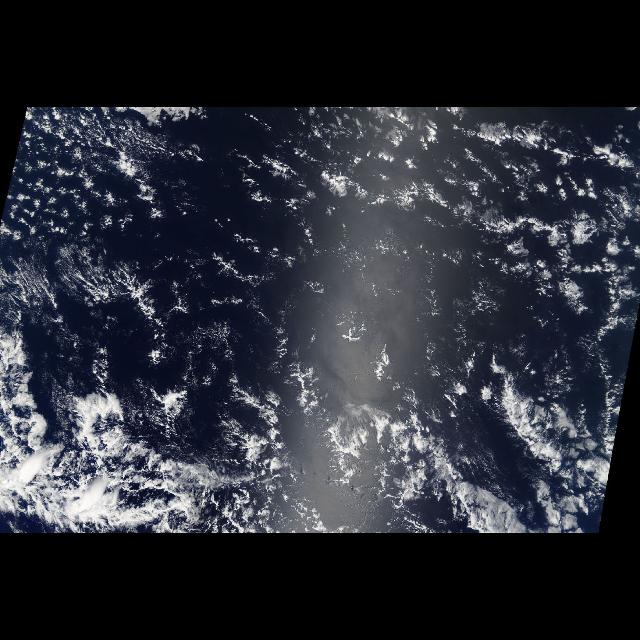Fish: (0, 356, 338, 534)
Flower: (294, 118, 634, 338), (5, 136, 163, 236)
